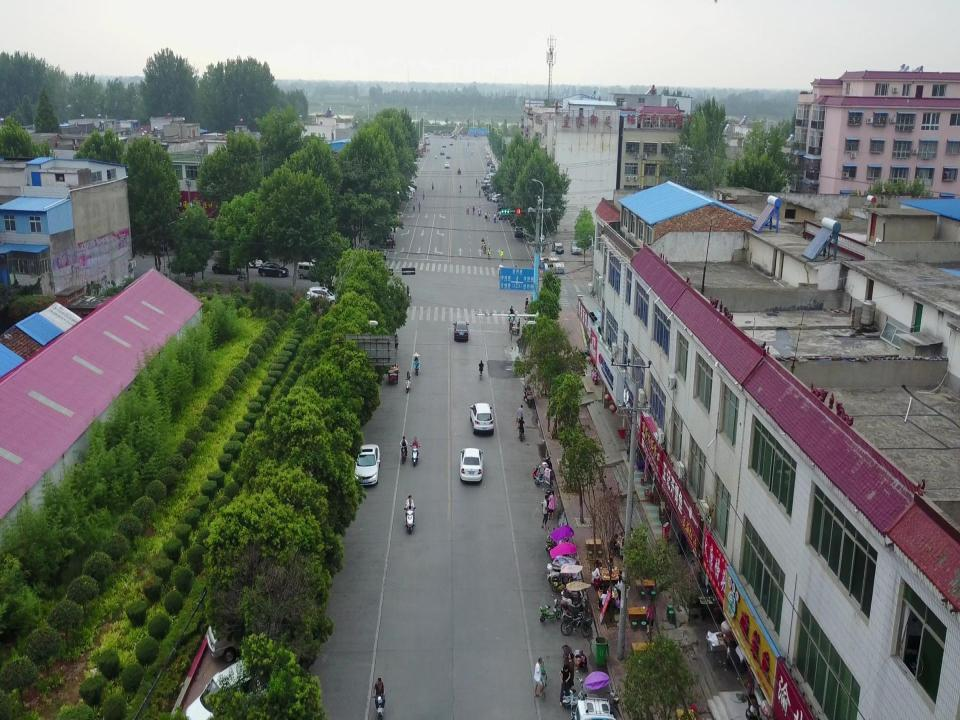car: (354, 444, 380, 486), (460, 448, 484, 483), (470, 403, 494, 436), (305, 286, 337, 307), (257, 262, 289, 278), (212, 260, 244, 274), (298, 261, 320, 280), (453, 321, 469, 342), (246, 256, 266, 268), (570, 241, 582, 255), (552, 241, 564, 254), (514, 226, 524, 238)
van: (575, 697, 616, 720)
